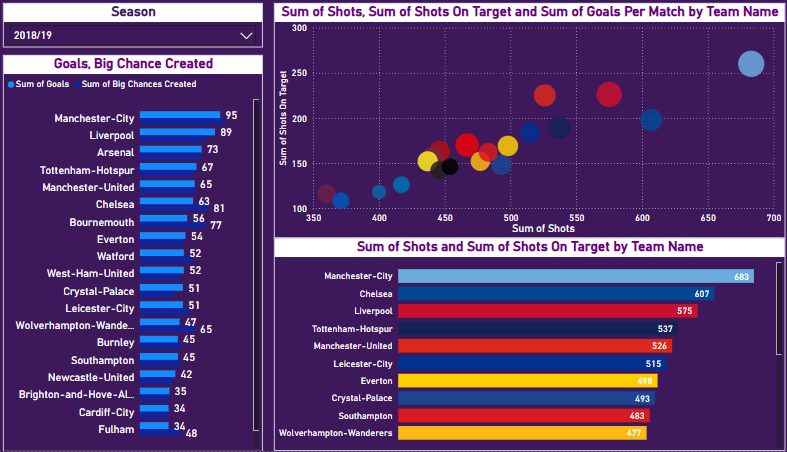

The page's visual inventory and layout, read from the dashboard file:
{"tool":"powerbi","page":{"name":"Attack","canvas":[1280,720],"ordinal":2},"visuals":[{"type":"clusteredBarChart","title":"Goals, Big Chance Created","fields":{"Category":["Overview [2024-05-21].Team Name"],"Y":["Normalized Attack [2024-05-21].Goals","Attack [2024-05-21].Big Chances Created"]},"box":[23.3,94.8,410.1,626],"z":0},{"type":"slicer","title":"Season","fields":{"Values":["Premier League Seasons.Season"]},"box":[23.3,13.3,410,70],"z":1000},{"type":"scatterChart","fields":{"Category":["Overview [2024-05-21].Team Name"],"X":["Normalized Attack [2024-05-21].Shots"],"Y":["Normalized Attack [2024-05-21].Shots On Target"],"Size":["Attack [2024-05-21].Goals Per Match"]},"box":[451.4,12.6,806.5,370.9],"z":2000},{"type":"barChart","fields":{"Y":["Attack [2024-05-21].Shots"],"Category":["Overview [2024-05-21].Team Name"]},"box":[451,384,807,336],"z":3000}]}

Visuals, with their boxes in screenshot pixels (x1, y1, x2, y2), scaled from the page's 1280x720 canvas onto the 787x452 screenshot:
"Goals, Big Chance Created" clusteredBarChart: region(14, 60, 266, 451)
"Season" slicer: region(14, 8, 266, 52)
scatterChart - Overview [2024-05-21].Team Name x Normalized Attack [2024-05-21].Shots: region(278, 8, 773, 241)
barChart - Attack [2024-05-21].Shots x Overview [2024-05-21].Team Name: region(277, 241, 773, 451)
